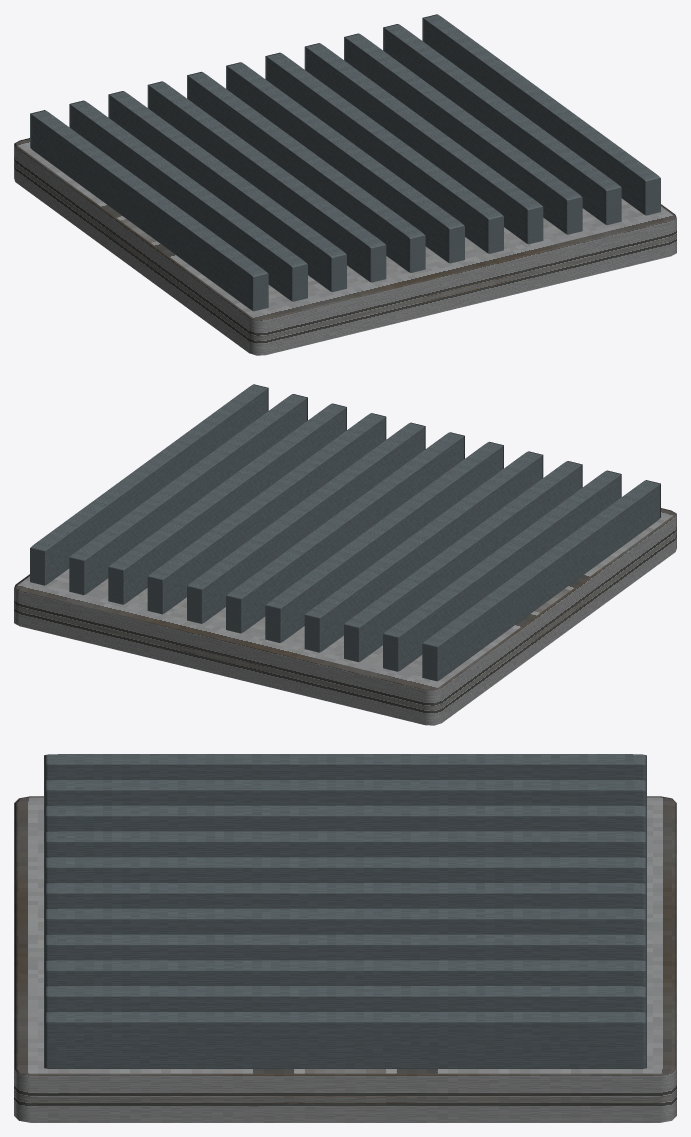
File: floor-drain.glb
The picture shows the model from 3 angles, top to bottom: view 1: azimuth 30°, elevation 25°; view 2: azimuth 150°, elevation 25°; view 3: azimuth 270°, elevation 25°; orthographic projection. The views are drawn at different scales.
Parts seen in each view (by area): view 1: slat (×11), rim; view 2: slat (×11), rim; view 3: slat (×11), rim.
Boxes of the visible parts, left/top/right/bottom form: slat (×11): left=30, top=14, right=660, bottom=311; rim: left=14, top=138, right=676, bottom=355; slat (×11): left=30, top=384, right=660, bottom=681; rim: left=14, top=508, right=676, bottom=725; slat (×11): left=44, top=754, right=646, bottom=1068; rim: left=14, top=796, right=676, bottom=1122.
Bounding box in the file's own units: 0.16 × 0.0256 × 0.16.
Materials: 2 (2 with a texture image).
